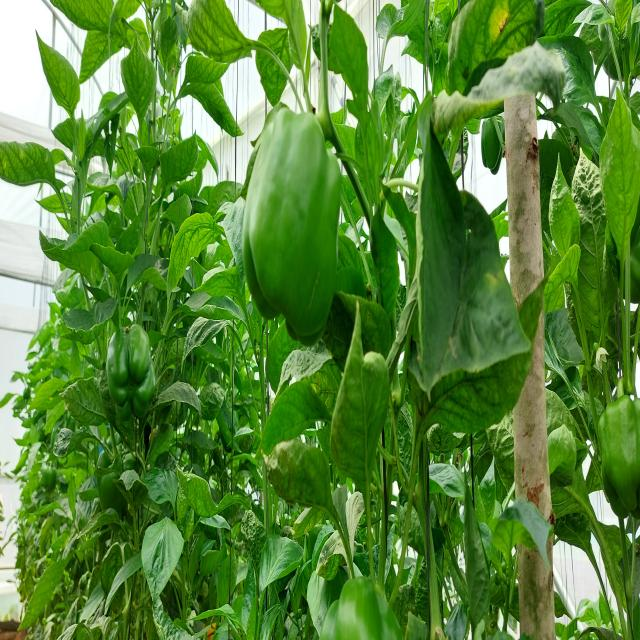Green--Not-ready-to-harvest: (252, 108, 348, 353), (103, 321, 163, 433), (324, 566, 398, 640)
